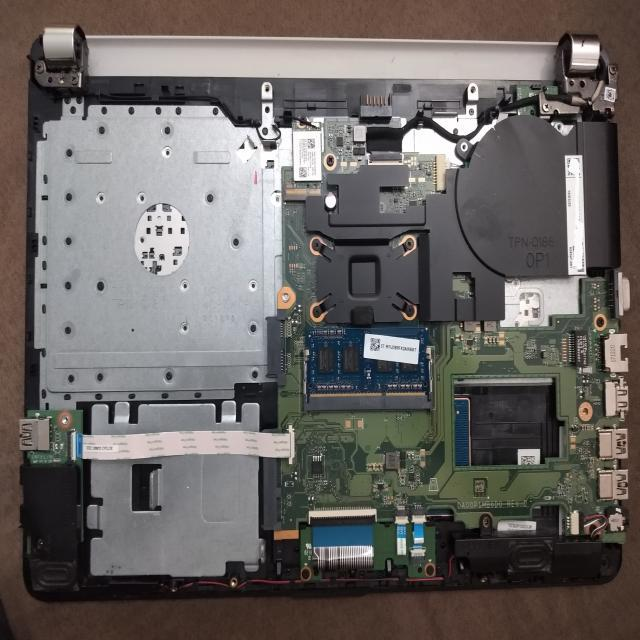SSD: (20, 409, 83, 466)
Screw: (323, 151, 337, 171), (608, 62, 618, 83), (68, 72, 81, 88)
